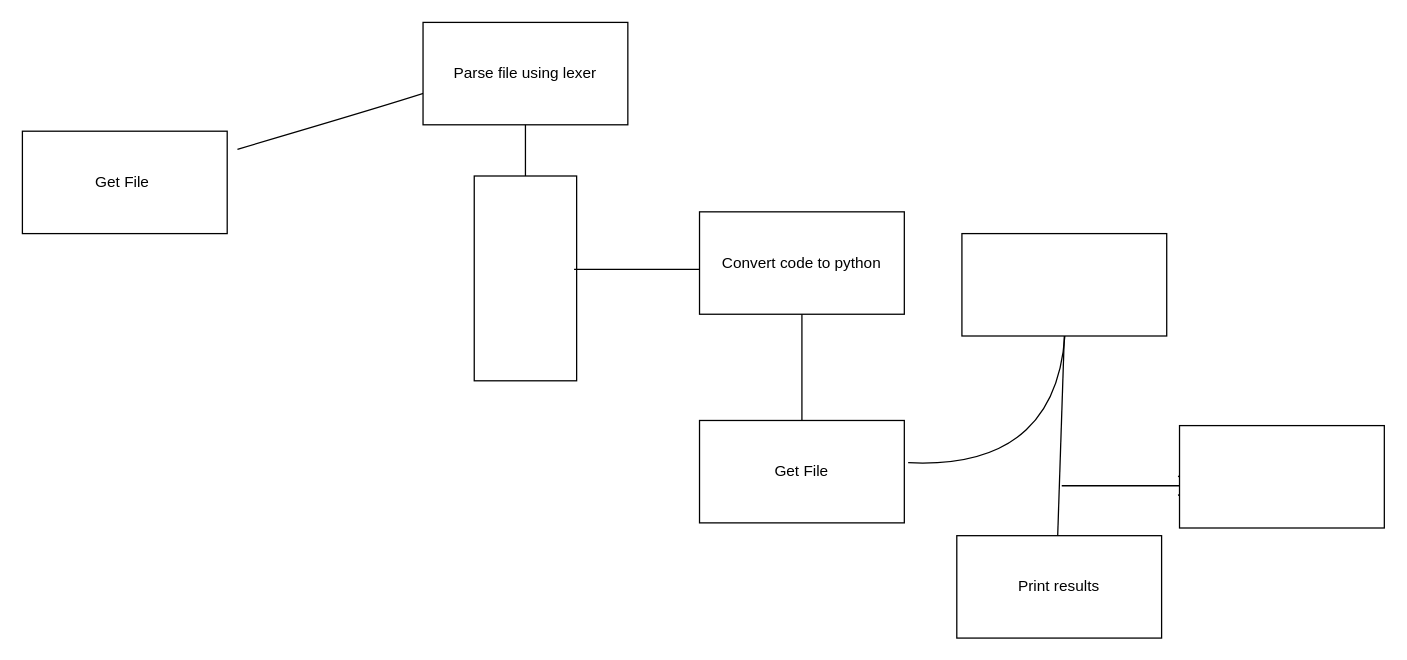
Some shapes in this 1407 by 660 pixel diagram are drawn without their labels. Each missing label, with the centre of its shape:
Check for constants: [525,278]
Execute: [1064,284]
Send output to stdout: [1281,476]
